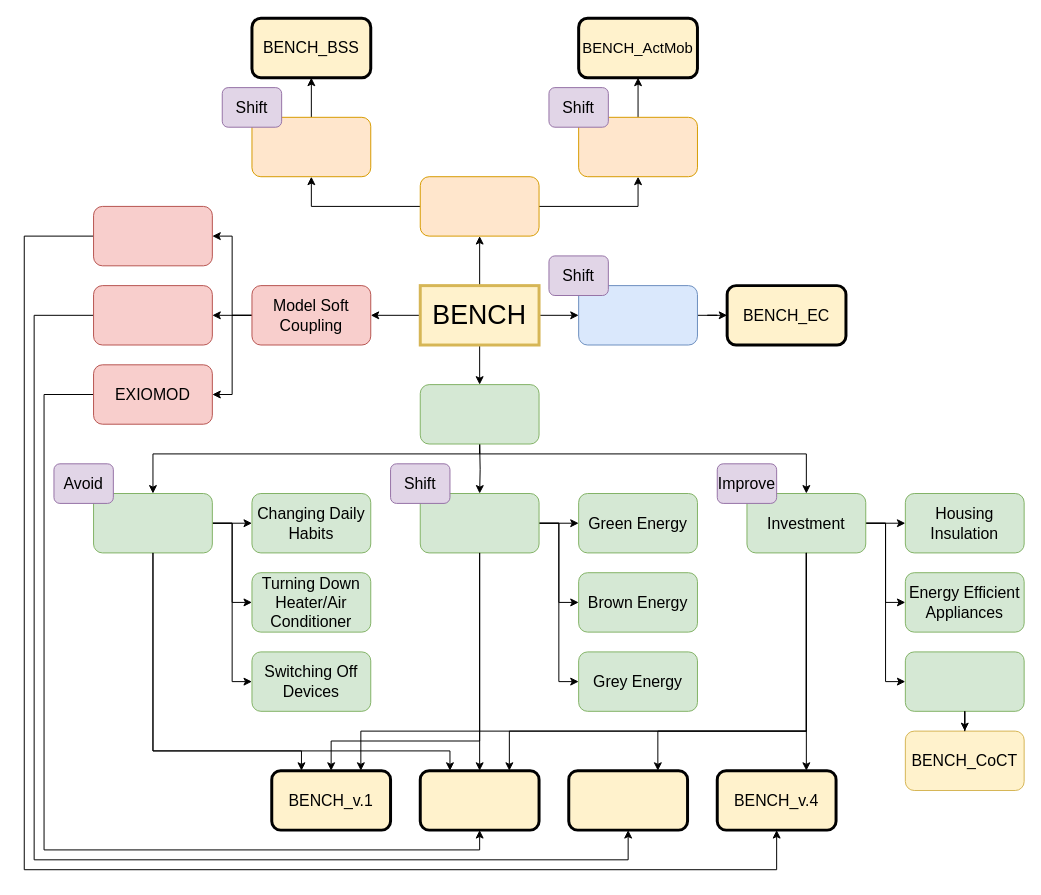
The diagram is 1041 pixels wide and 895 high, and some of its shapes have lost their labels. The shapes that lost their labels are listed below. From the top down, each one's centre as x and y in pixels, then its label:
(x=311, y=146): Bike Sharing
(x=637, y=146): Active Transport
(x=479, y=206): Transport
(x=152, y=235): MESSAGEix Buildings
(x=152, y=315): EU-EMS
(x=637, y=315): Energy Communities
(x=479, y=414): Buildings
(x=152, y=523): Conservation
(x=479, y=523): Switching
(x=964, y=681): Rooftop Solar
(x=479, y=800): BENCH_v.2
(x=628, y=800): BENCH_v.3
